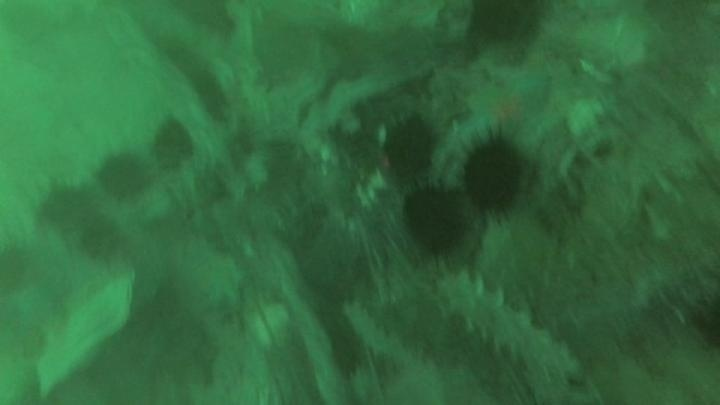echinus: (460, 138, 528, 215), (400, 184, 470, 256), (379, 114, 438, 180), (467, 1, 547, 47), (36, 181, 100, 234), (95, 151, 152, 201), (150, 116, 196, 169), (77, 215, 123, 263), (1, 239, 32, 296)
holothurian: (432, 270, 585, 378)
starfish: (459, 67, 555, 147), (174, 240, 248, 314)
